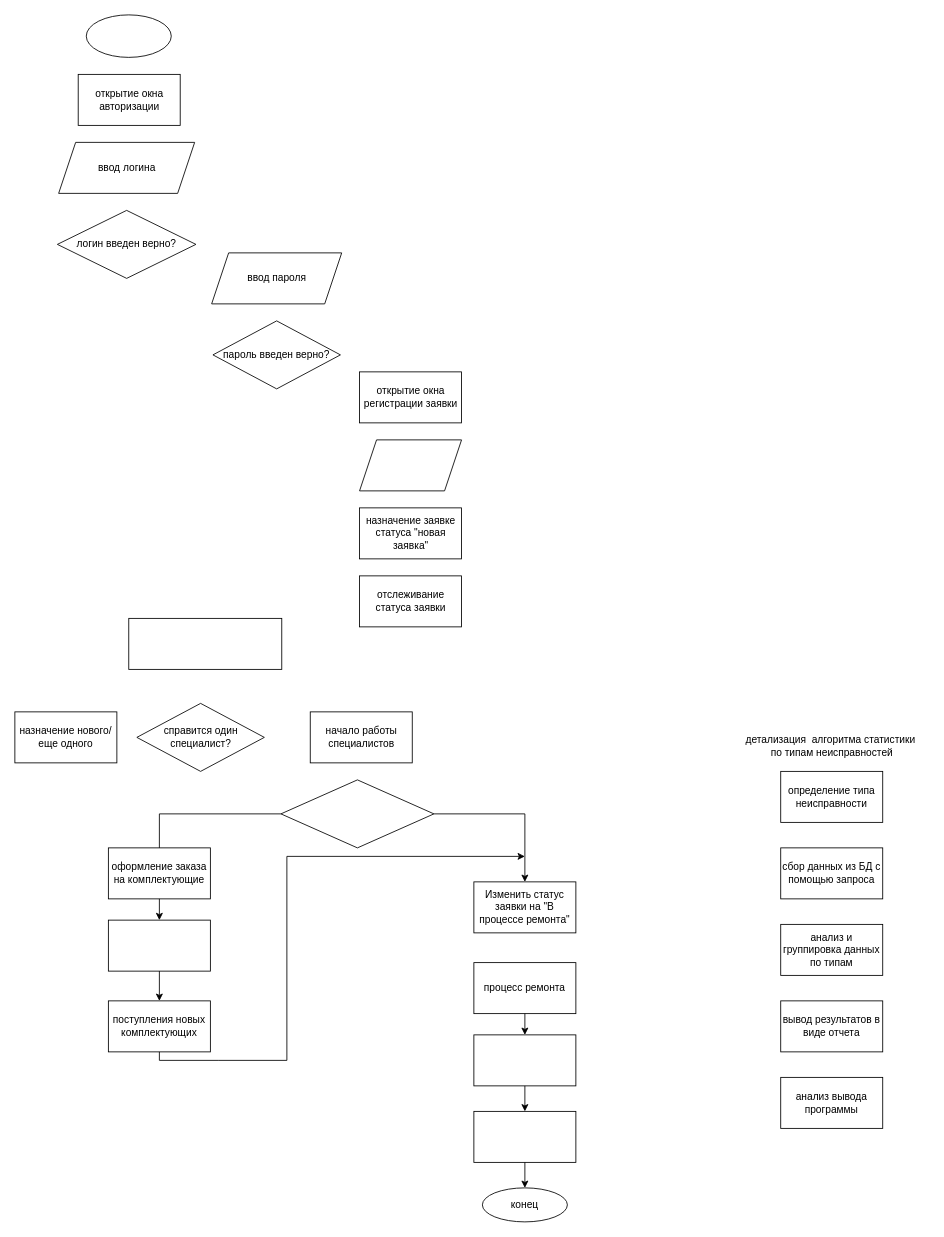
Some shapes in this 944 by 1237 pixel diagram are drawn without their labels. The centre of each missing label's shape, as x and y in pixels:
ввод данных для создания заявки: pixel 410 465
выдача клиенту: pixel 524 1136
Есть в наличии необходимые комплектующие?: pixel 357 813
Изменить статус заявки на "Ожидание комплектующих": pixel 159 945
Изменить статуса заявки на "Готов к выдаче": pixel 524 1060
назначение ответственного специалиста: pixel 205 643
начало: pixel 128 35
